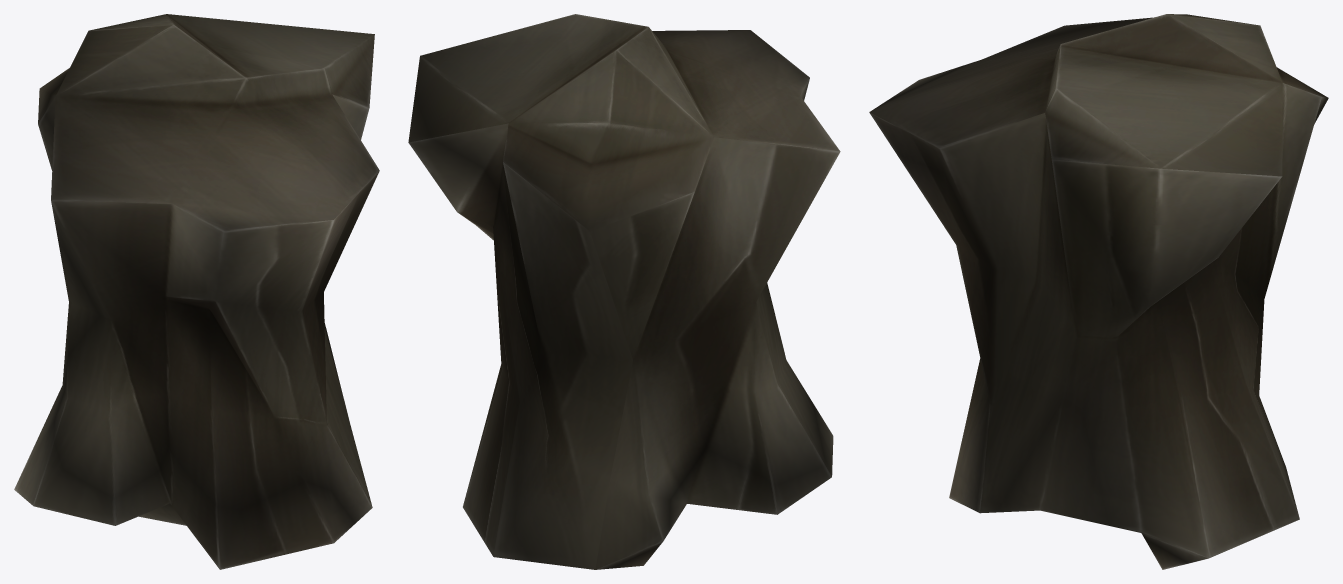
File: A_CV_GEN_Rock_01.fbx
The picture shows the model from 3 angles, left to right: view 1: azimuth 30°, elevation 25°; view 2: azimuth 150°, elevation 25°; view 3: azimuth 270°, elevation 25°; orthographic projection.
Visible parts, largest first — view 1: A_CV_GEN_Rock_01; view 2: A_CV_GEN_Rock_01; view 3: A_CV_GEN_Rock_01.
Part boxes in pixels (x1,y1,x2,y2): A_CV_GEN_Rock_01: [14, 14, 379, 569]; A_CV_GEN_Rock_01: [408, 14, 840, 569]; A_CV_GEN_Rock_01: [869, 14, 1328, 569].
Size of the model in its own units: 6412 by 8097 by 6704.
1 material, 1 textured.
